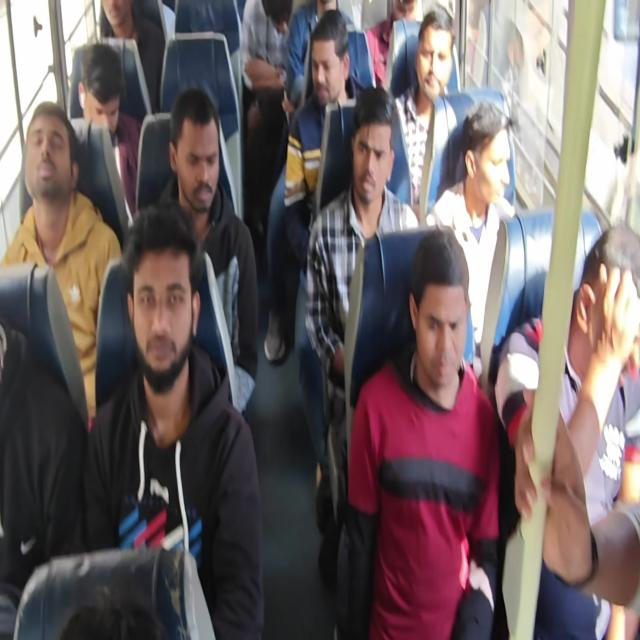person: (131, 240, 197, 366), (587, 249, 640, 383), (167, 118, 228, 222), (452, 111, 514, 211), (418, 278, 460, 381), (346, 122, 398, 205), (29, 106, 75, 198), (68, 64, 120, 142), (416, 25, 451, 112), (313, 32, 347, 102), (97, 0, 137, 30), (386, 0, 420, 24)
